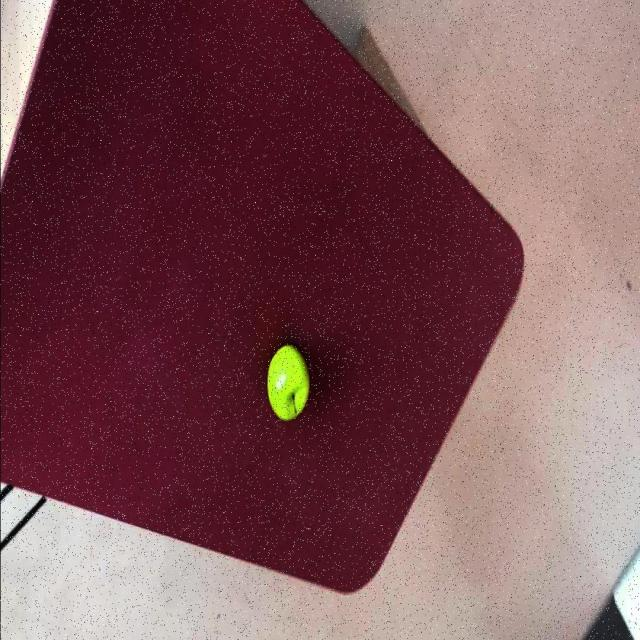Apple: (267, 343, 311, 421)
